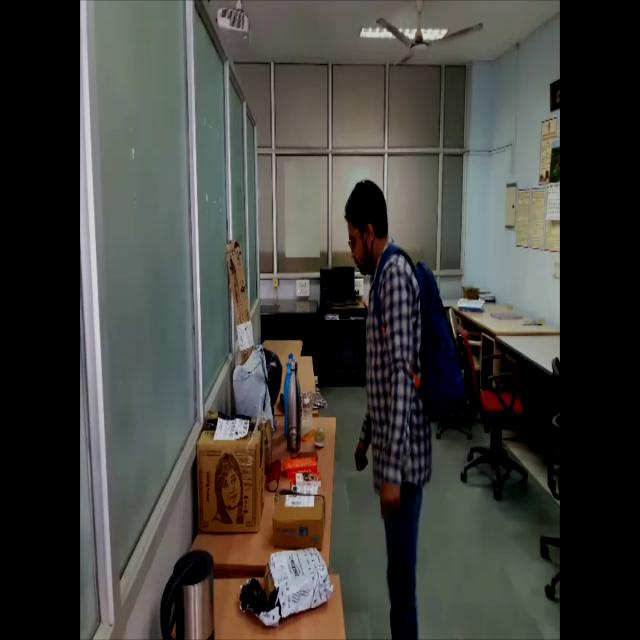normal: (346, 152, 470, 638)
